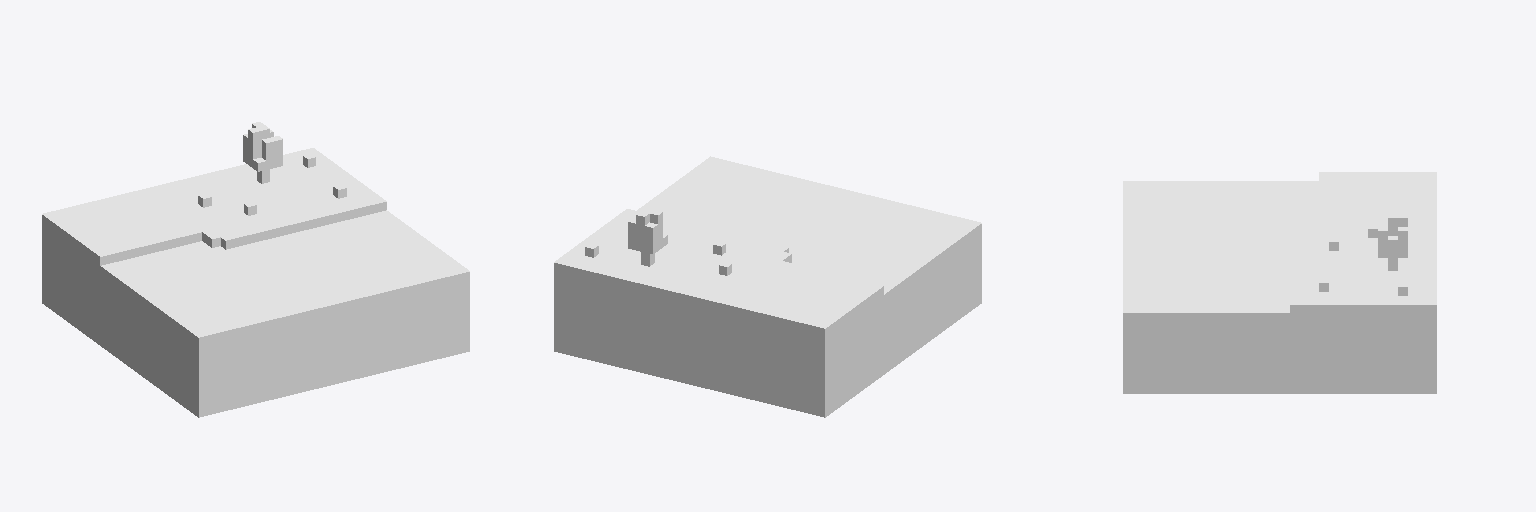
File: Overworld_Ocean_03.obj
3 views of the same model, side by side, from view 1: azimuth 30°, elevation 25°; view 2: azimuth 150°, elevation 25°; view 3: azimuth 270°, elevation 25° (orthographic).
Visible parts, largest first — view 1: object 1; view 2: object 1; view 3: object 1.
Part boxes in pixels (left/top/right/bottom): object 1: left=42, top=122, right=469, bottom=417; object 1: left=554, top=156, right=981, bottom=417; object 1: left=1123, top=172, right=1436, bottom=393.
Size of the model in its own units: 3.2 by 1.6 by 3.2.